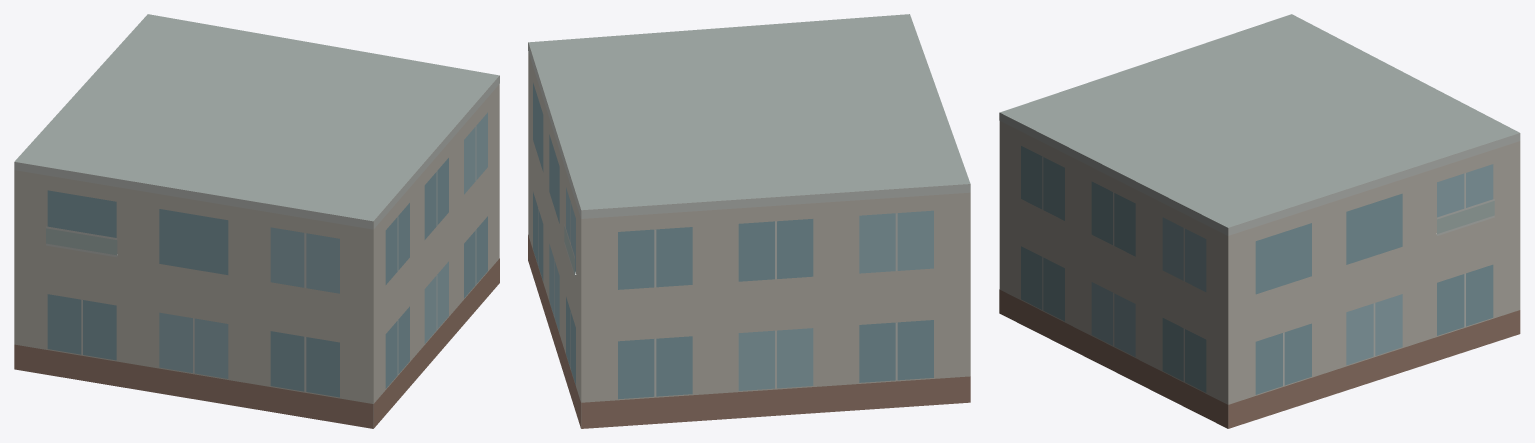
Rendered from survey-upis-32844020.glb.
3 renders of one model, left to right at view 1: azimuth 30°, elevation 25°; view 2: azimuth 150°, elevation 25°; view 3: azimuth 270°, elevation 25°, orthographic. The views are drawn at different scales.
Parts seen in each view (by area): view 1: survey-upis-32844020.tmp; view 2: survey-upis-32844020.tmp; view 3: survey-upis-32844020.tmp.
Boxes of the visible parts, left/top/right/bottom form: survey-upis-32844020.tmp: left=14, top=14, right=499, bottom=428; survey-upis-32844020.tmp: left=528, top=14, right=970, bottom=428; survey-upis-32844020.tmp: left=999, top=14, right=1520, bottom=428.
Bounding box in the file's own units: 13.93 × 6.1 × 14.33.
